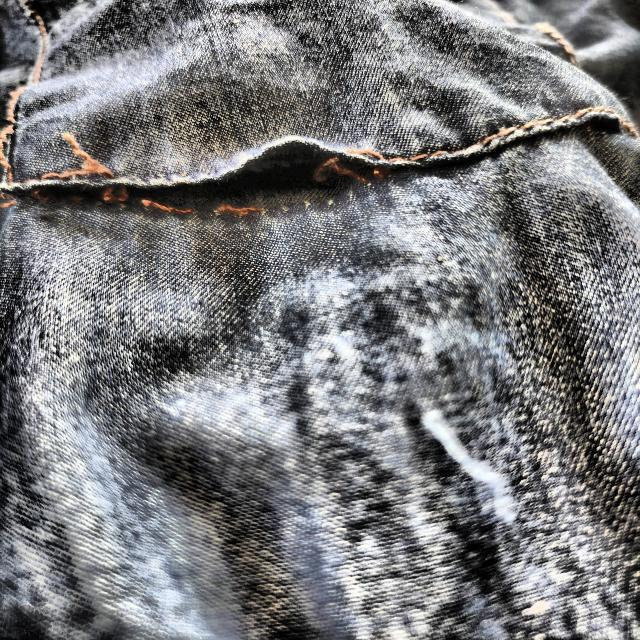gray stitch: (5, 128, 432, 227)
